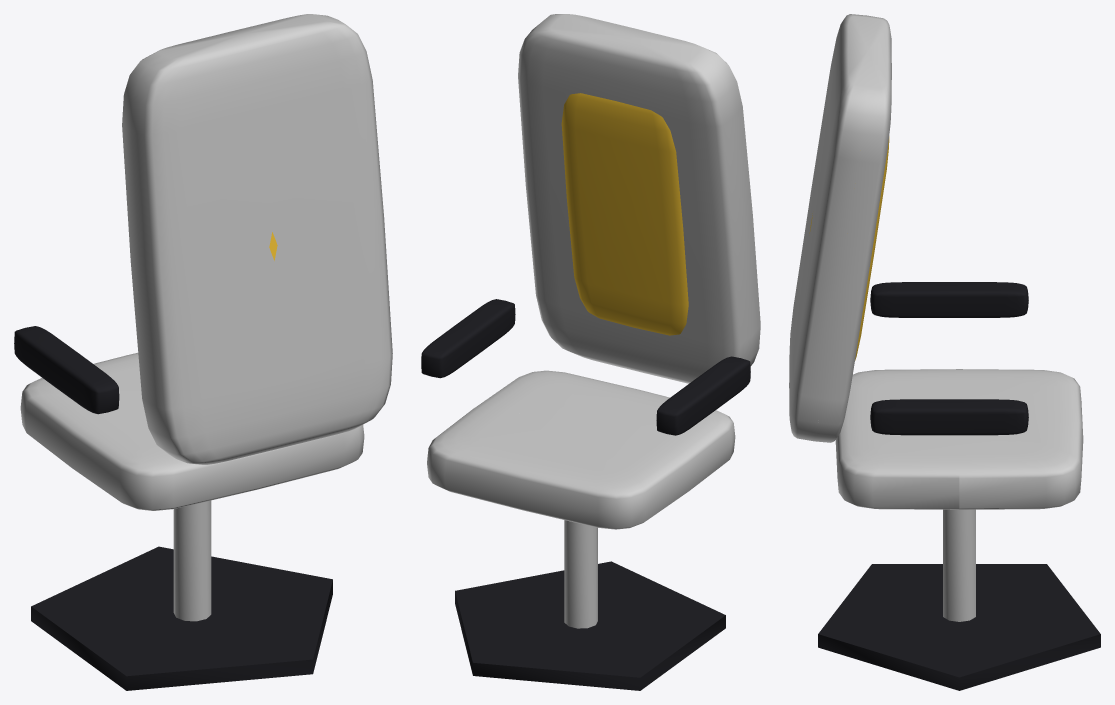
The model's file is home_gaming_chair.fbx.
3 views of the same model, side by side, from view 1: azimuth 30°, elevation 25°; view 2: azimuth 150°, elevation 25°; view 3: azimuth 270°, elevation 25° (orthographic). The views are drawn at different scales.
Visible parts, largest first — view 1: home_gaming_chair; view 2: home_gaming_chair; view 3: home_gaming_chair.
Boxes of the visible parts, x1,y1,x2,y2 form: home_gaming_chair: (14, 14, 392, 690); home_gaming_chair: (421, 14, 760, 690); home_gaming_chair: (789, 14, 1100, 690).
Bounding box in the file's own units: 0.62 × 1.29 × 0.629.
